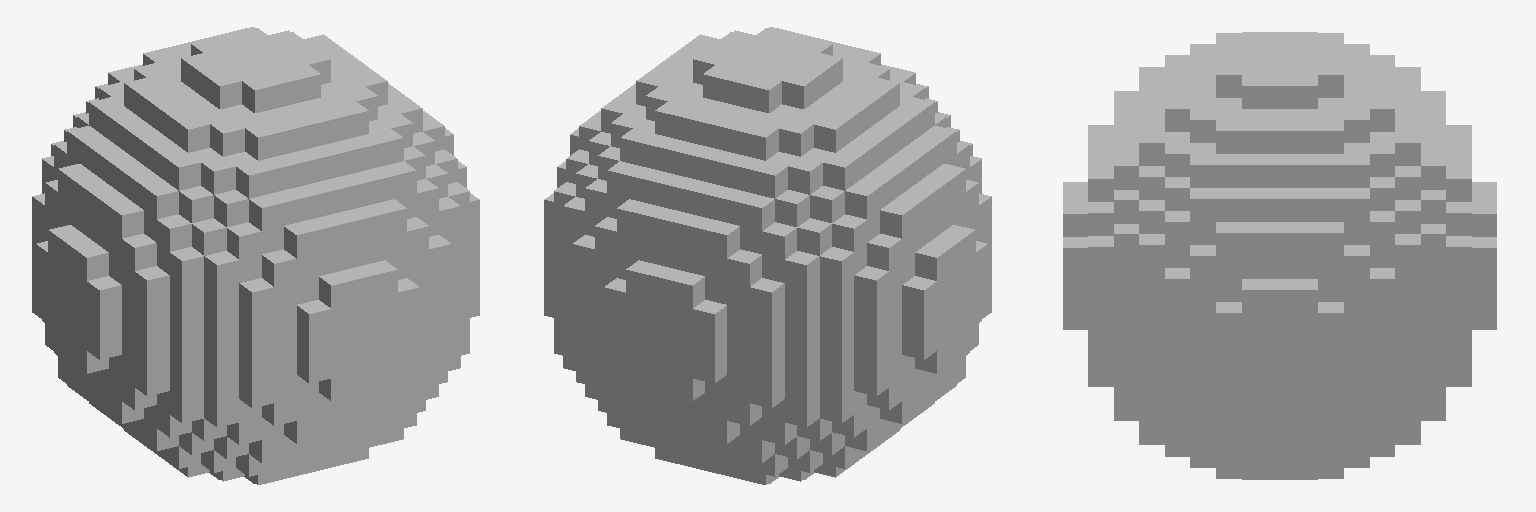
Rendered from fireball.obj.
3 renders of one model, left to right at view 1: azimuth 30°, elevation 25°; view 2: azimuth 150°, elevation 25°; view 3: azimuth 270°, elevation 25°, orthographic.
Visible parts, largest first — view 1: fireball_Sphere; view 2: fireball_Sphere; view 3: fireball_Sphere.
Boxes of the visible parts, box(x1,y1,x2,y2) form: fireball_Sphere: box(32, 27, 479, 484); fireball_Sphere: box(544, 27, 991, 484); fireball_Sphere: box(1063, 32, 1496, 479).
Size of the model in its own units: 0.5 by 0.5 by 0.5.